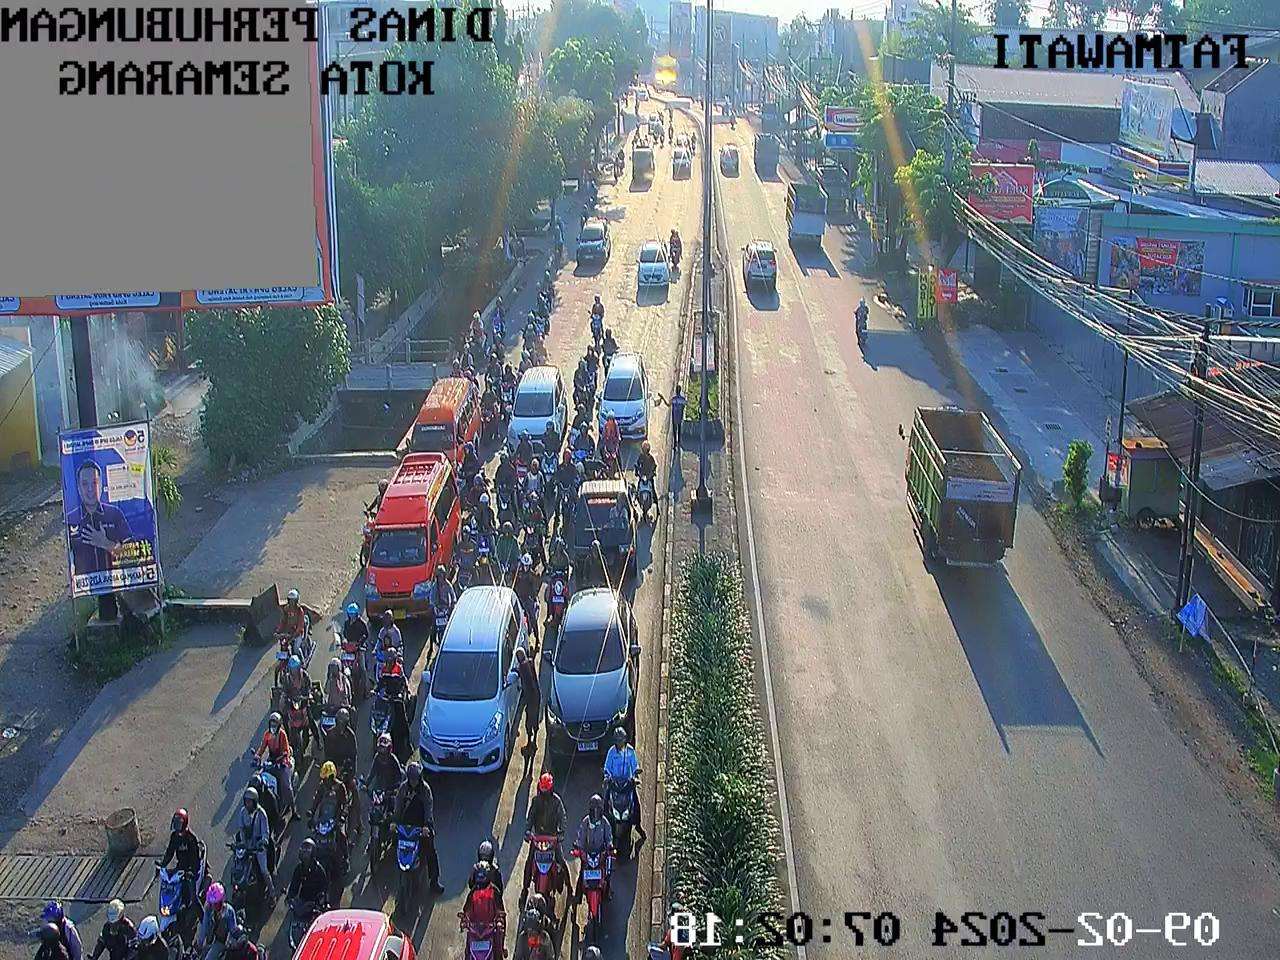car: (425, 594, 525, 854), (345, 460, 445, 684), (402, 344, 488, 507), (560, 567, 633, 749), (295, 876, 434, 960), (571, 472, 655, 580), (514, 344, 568, 496), (605, 344, 675, 433), (633, 237, 698, 315), (558, 204, 612, 267), (625, 142, 665, 201), (673, 134, 695, 211)
motorcycle: (282, 757, 385, 921), (354, 750, 446, 911), (253, 572, 333, 729), (544, 789, 631, 920), (426, 851, 522, 960), (307, 630, 371, 775), (332, 579, 388, 705), (229, 763, 298, 864), (264, 639, 315, 766), (144, 813, 216, 903), (513, 772, 563, 884), (602, 722, 668, 804), (565, 282, 631, 365), (188, 884, 265, 954), (213, 869, 271, 960), (508, 875, 565, 960), (249, 702, 311, 776), (107, 862, 154, 960), (504, 527, 558, 610), (479, 485, 533, 568), (557, 327, 615, 402), (461, 474, 505, 552), (625, 432, 670, 507), (40, 879, 83, 960), (362, 602, 416, 664), (525, 419, 566, 500), (584, 410, 640, 467), (488, 290, 523, 368), (451, 437, 488, 509), (563, 390, 596, 467), (453, 304, 485, 380), (535, 262, 565, 342), (459, 515, 490, 577), (496, 354, 521, 422), (520, 327, 546, 390), (642, 99, 678, 139), (612, 127, 631, 193), (525, 522, 533, 595), (560, 409, 568, 472)
